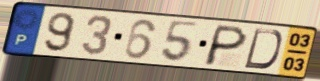3: (80, 14, 115, 58)
5: (159, 19, 202, 65)
6: (123, 17, 159, 61)
9: (43, 11, 77, 54)
D: (241, 27, 284, 71)
P: (201, 24, 250, 68)
